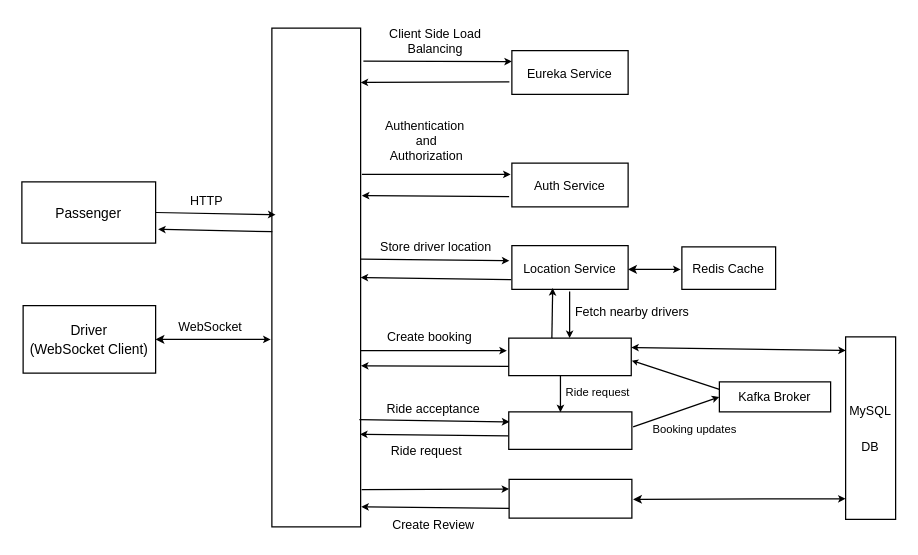
Some shapes in this 918 by 555 pixel diagram are drawn without their labels. Here are the shapes that lost their labels. From the top down, the box of each, then its label:
(271, 27, 361, 527): API Gateway
(508, 337, 631, 376): Booking Service
(508, 411, 632, 449): WebSocket Service
(508, 478, 632, 518): Review Service
